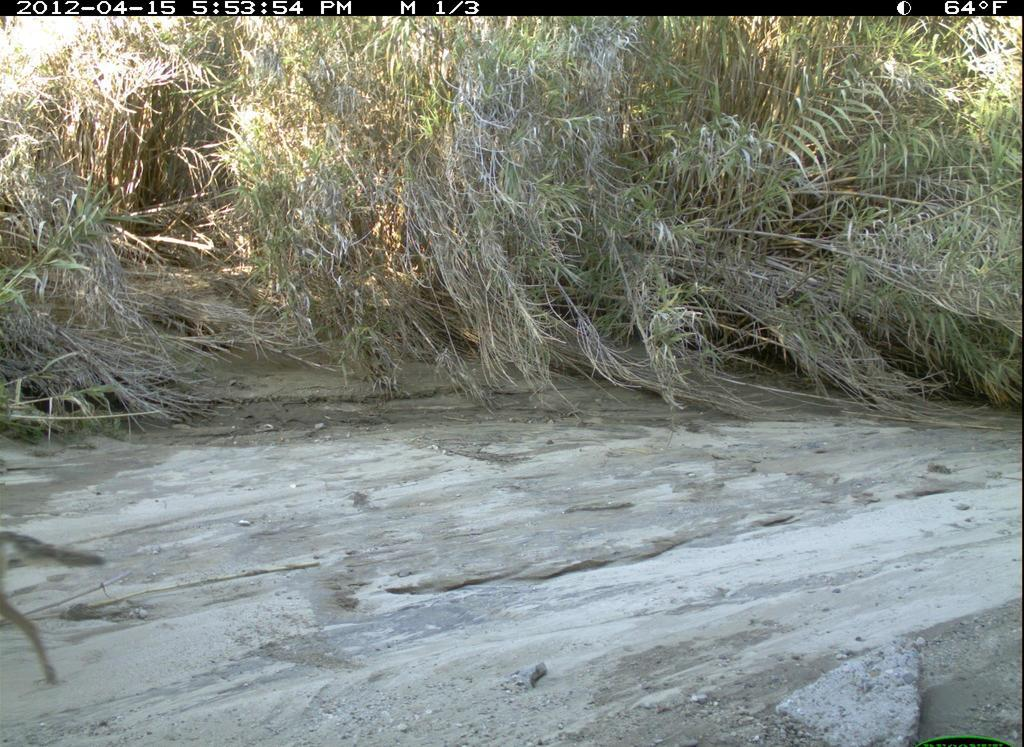coyote: (1, 524, 116, 689)
